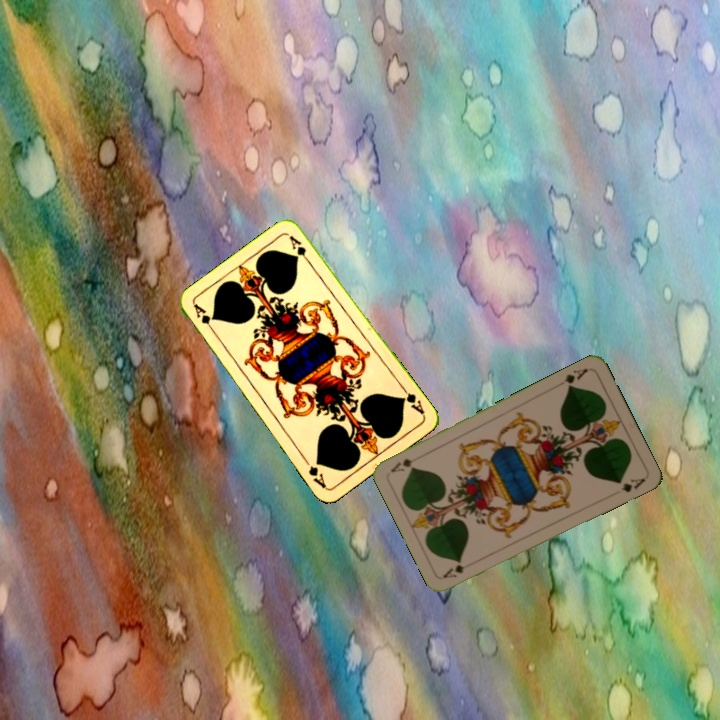GA: (397, 382, 427, 417), (190, 300, 218, 337), (439, 557, 477, 581), (560, 364, 591, 391)
